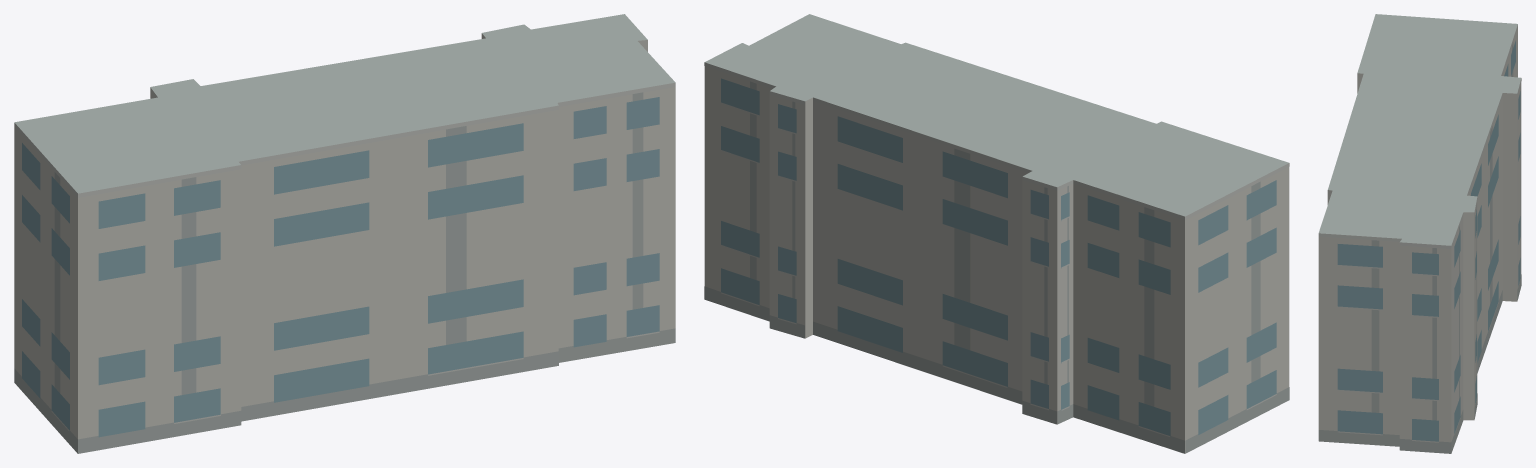
The model's file is survey-upis-32731101.glb.
3 renders of one model, left to right at view 1: azimuth 30°, elevation 25°; view 2: azimuth 150°, elevation 25°; view 3: azimuth 270°, elevation 25°, orthographic. The views are drawn at different scales.
Parts seen in each view (by area): view 1: survey-upis-32731101.tmp; view 2: survey-upis-32731101.tmp; view 3: survey-upis-32731101.tmp.
Boxes of the visible parts, x1,y1,x2,y2 form: survey-upis-32731101.tmp: (14,14,675,453); survey-upis-32731101.tmp: (704,14,1289,453); survey-upis-32731101.tmp: (1318,14,1521,453).
Bounding box in the file's own units: 36.44 × 15.25 × 13.48.
